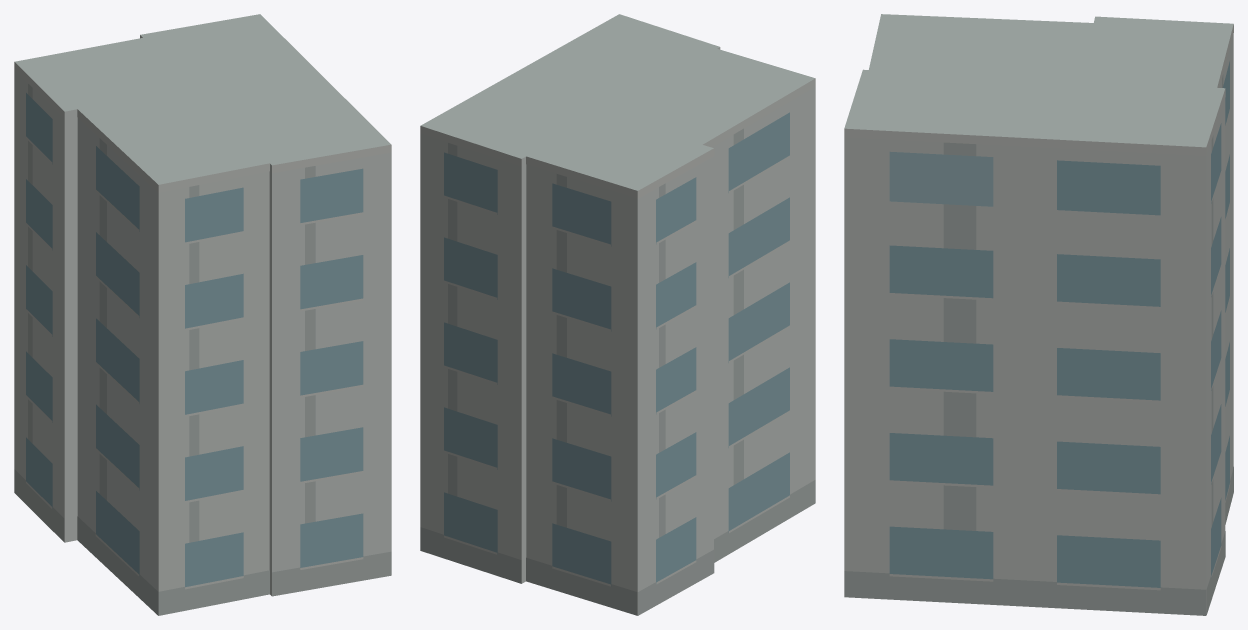
Rendered from survey-upis-33037531.glb.
The picture shows the model from 3 angles, left to right: view 1: azimuth 30°, elevation 25°; view 2: azimuth 150°, elevation 25°; view 3: azimuth 270°, elevation 25°; orthographic projection. The views are drawn at different scales.
Visible parts, largest first — view 1: survey-upis-33037531.tmp; view 2: survey-upis-33037531.tmp; view 3: survey-upis-33037531.tmp.
Boxes of the visible parts, x1,y1,x2,y2 form: survey-upis-33037531.tmp: [14, 14, 391, 615]; survey-upis-33037531.tmp: [420, 14, 815, 615]; survey-upis-33037531.tmp: [844, 14, 1233, 615].
Bounding box in the file's own units: 8.01 × 13.1 × 9.88.
